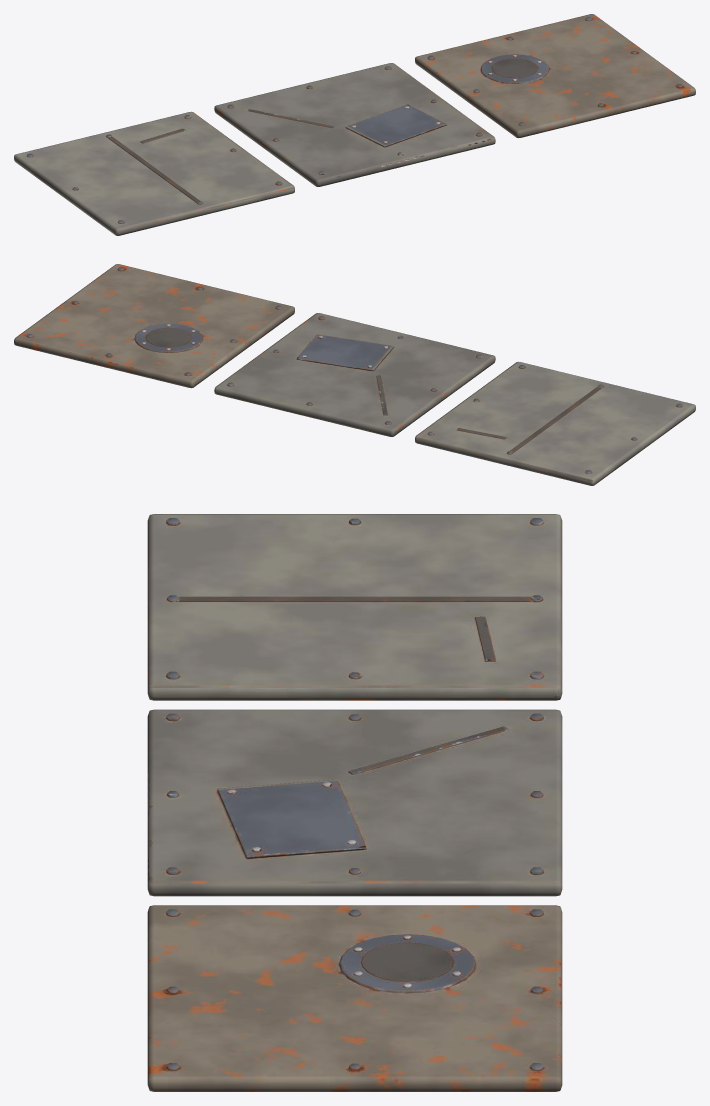
File: arena_tile.glb
The picture shows the model from 3 angles, top to bottom: view 1: azimuth 30°, elevation 25°; view 2: azimuth 150°, elevation 25°; view 3: azimuth 270°, elevation 25°; orthographic projection. The views are drawn at different scales.
Parts seen in each view (by area): view 1: b, a, c; view 2: b, a, c; view 3: b, a, c.
Part boxes in pixels (<box>): b: <box>214,63,495,186</box>; a: <box>14,111,294,235</box>; c: <box>415,14,695,138</box>; b: <box>214,313,495,436</box>; a: <box>415,361,695,485</box>; c: <box>14,264,294,388</box>; b: <box>147,709,562,896</box>; a: <box>147,514,562,700</box>; c: <box>147,905,562,1091</box>.
Size of the model in its own units: 6.37 by 0.1008 by 1.97.
1 material, 1 textured.
